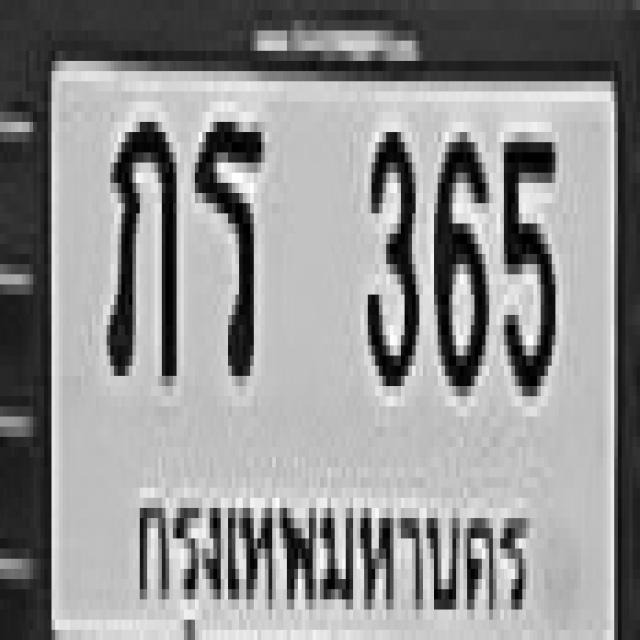3: (364, 122, 416, 376)
41PhorSamPhao: (105, 112, 175, 376)
44RorRuea: (191, 112, 261, 376)
5: (500, 122, 552, 386)
6: (430, 122, 486, 386)
Bangkok: (128, 457, 529, 628)
